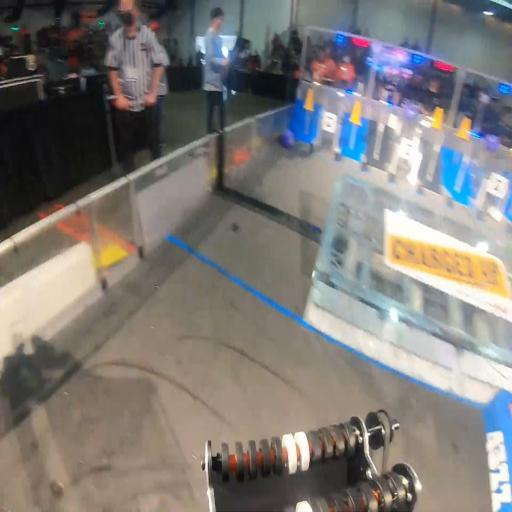robot: (482, 387, 512, 512)
